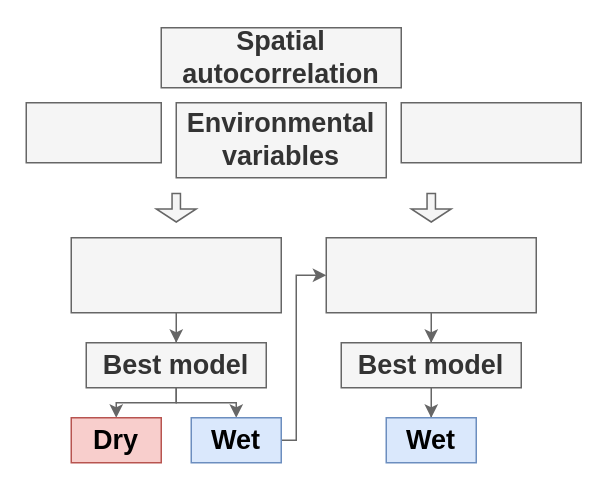
Some shapes in this 608 by 489 pixel diagram are drawn without their labels. The shapes that lost their labels are listed below. From the top down, each one's centre as x and y in pixels, then its label:
At point 93,132: "Satellite".
At point 490,132: "Observation".
At point 175,274: "Classification (wet / dry)".
At point 430,274: "Regression (magnitude)".
